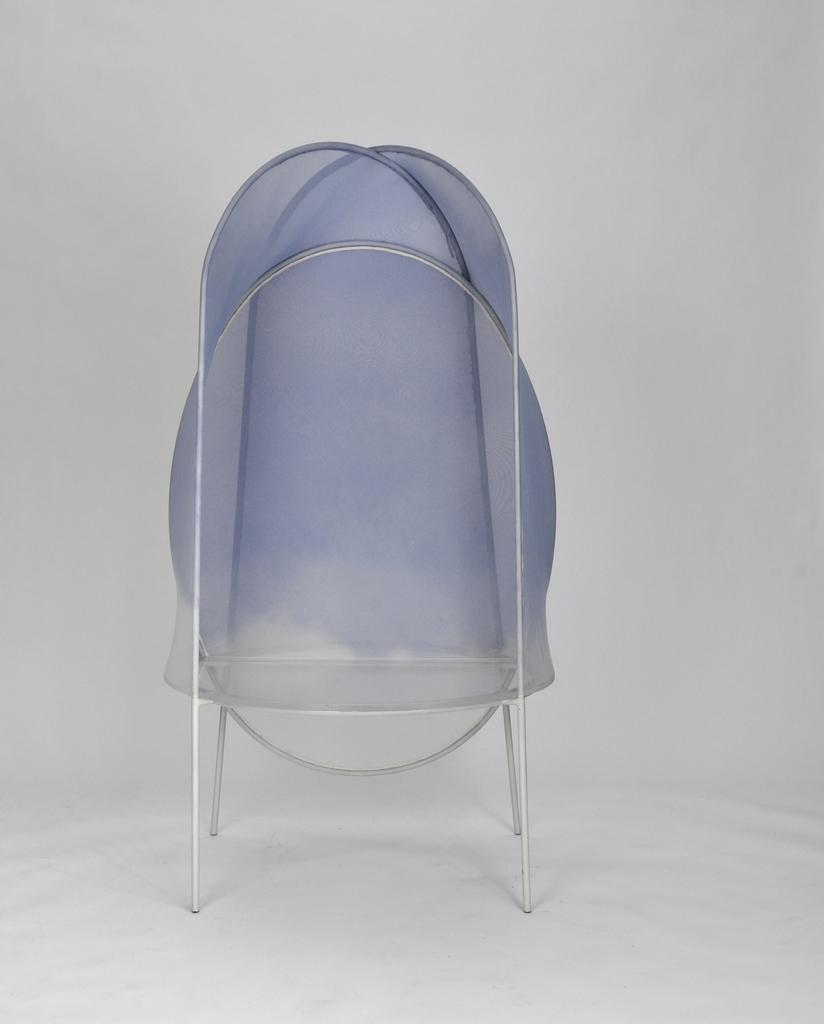Chair: (152, 90, 599, 916)
